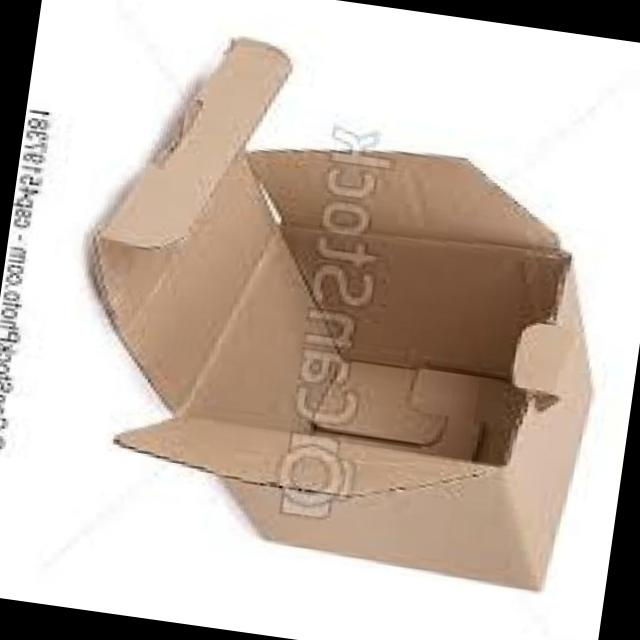cardboard paper: (98, 41, 592, 590)
